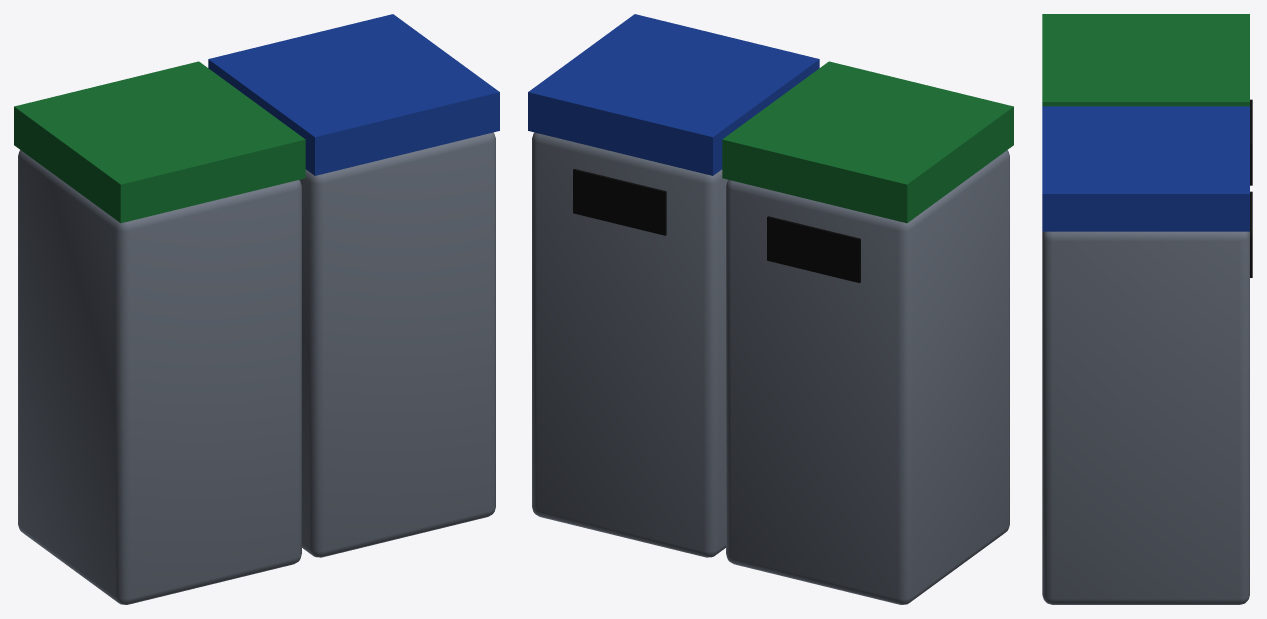
The model's file is office.waste.recycling_2.glb.
3 views of the same model, side by side, from view 1: azimuth 30°, elevation 25°; view 2: azimuth 150°, elevation 25°; view 3: azimuth 270°, elevation 25° (orthographic). The views are drawn at different scales.
Visible parts, largest first — view 1: main__steel_painted, main__plastic_green, main__plastic_blue; view 2: main__steel_painted, main__plastic_green, main__plastic_blue, main__plastic_black; view 3: main__steel_painted, main__plastic_blue, main__plastic_green, main__plastic_black.
Part boxes in pixels (x1,y1,x2,y2): main__steel_painted: (18, 132, 495, 604); main__plastic_green: (14, 61, 305, 223); main__plastic_blue: (208, 14, 499, 175); main__steel_painted: (532, 132, 1009, 604); main__plastic_green: (722, 61, 1013, 223); main__plastic_blue: (528, 14, 819, 175); main__plastic_black: (573, 169, 860, 282); main__steel_painted: (1042, 231, 1249, 604); main__plastic_blue: (1042, 106, 1249, 231); main__plastic_green: (1042, 14, 1249, 106); main__plastic_black: (1250, 99, 1252, 277).
Bounding box in the file's own units: 0.82 × 0.88 × 0.405.
